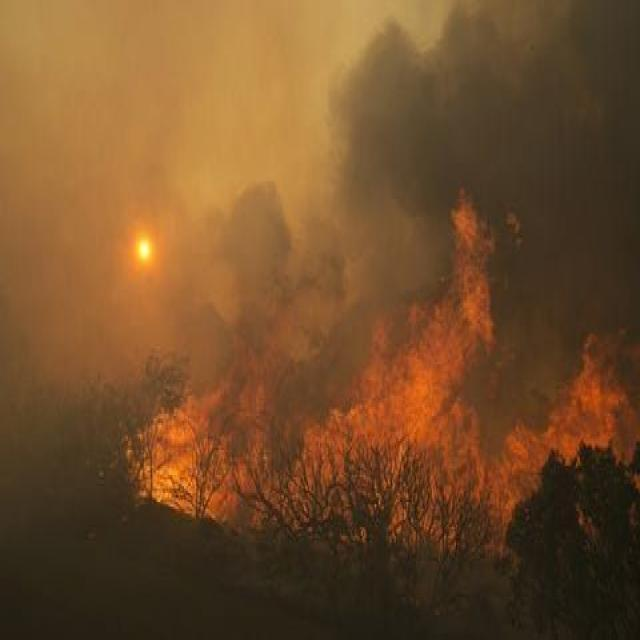Fire: (140, 220, 632, 502)
Smoke: (316, 12, 634, 376)
